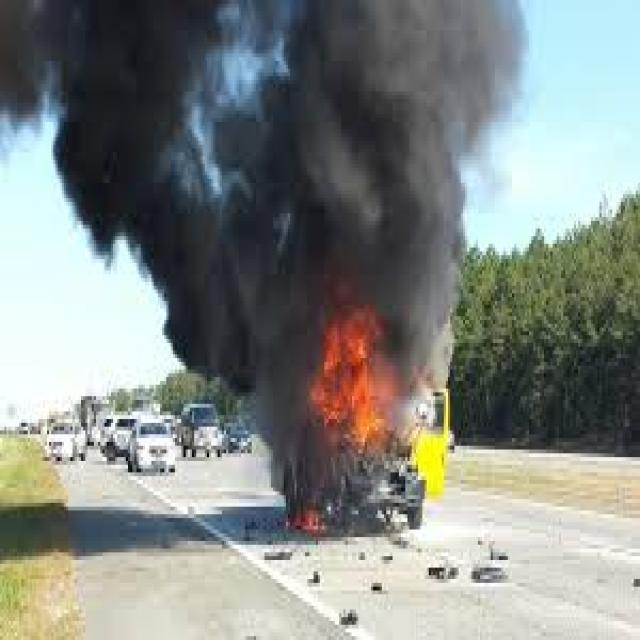Fire: (310, 298, 392, 448), (290, 496, 330, 530)
Smoke: (0, 0, 524, 129), (55, 132, 463, 292), (160, 294, 302, 396), (393, 294, 454, 418), (248, 399, 308, 471)
